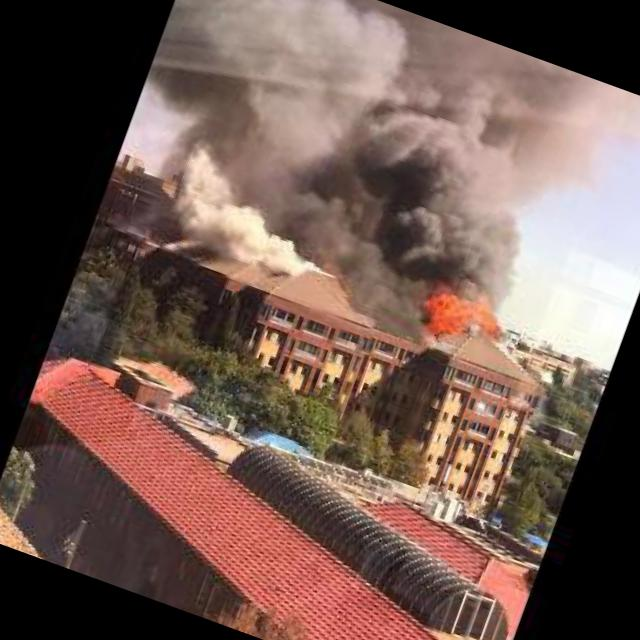fire: (401, 270, 517, 368)
smoke: (111, 0, 595, 320)
